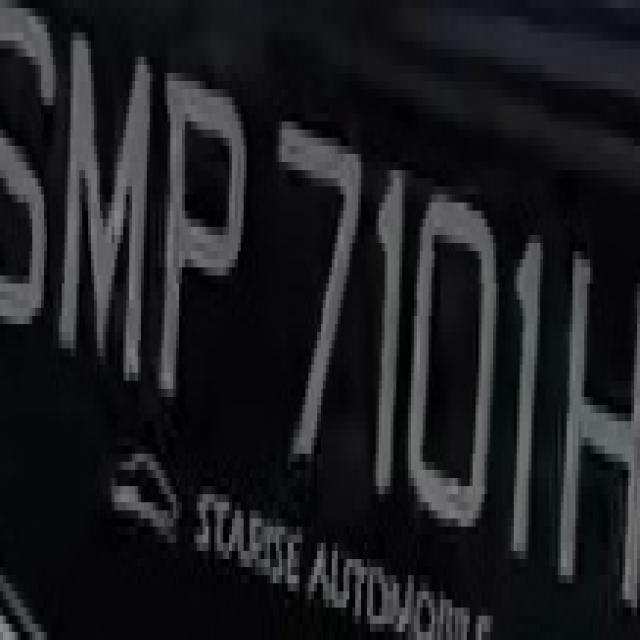0: (402, 162, 505, 551)
1: (505, 211, 552, 575), (376, 130, 414, 518)
7: (264, 73, 364, 478)
H: (555, 218, 640, 640)
M: (56, 8, 152, 397)
P: (152, 40, 252, 438)
S: (0, 8, 59, 381)
